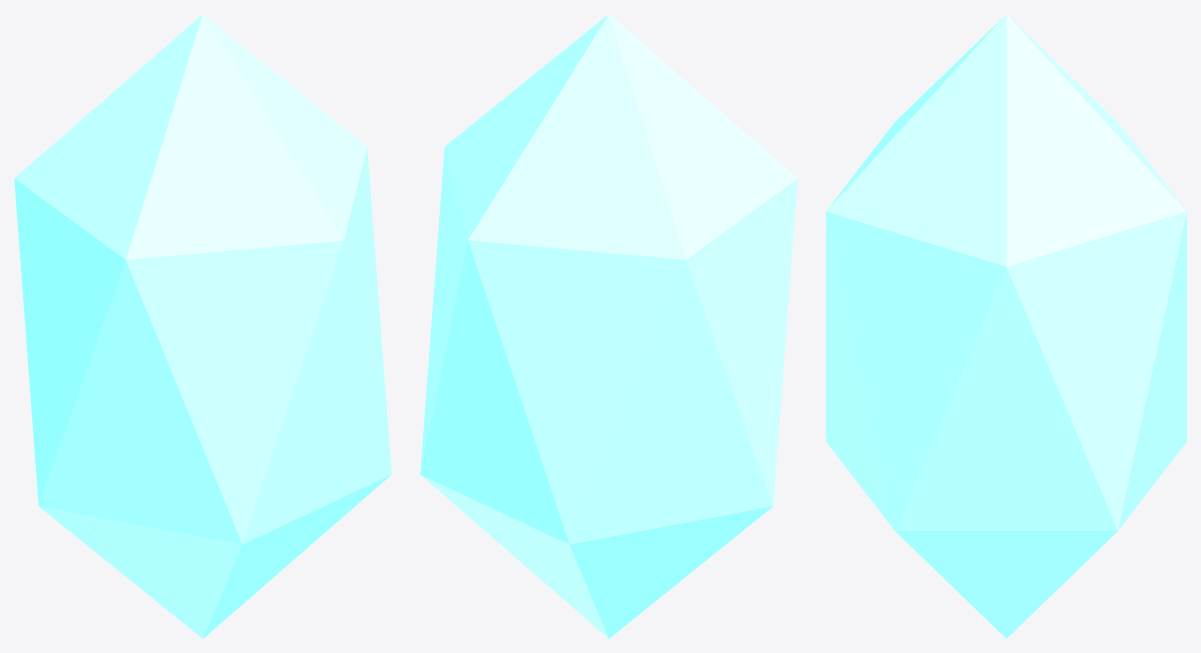
File: player_crystal.glb
The picture shows the model from 3 angles, left to right: view 1: azimuth 30°, elevation 25°; view 2: azimuth 150°, elevation 25°; view 3: azimuth 270°, elevation 25°; orthographic projection.
Parts seen in each view (by area): view 1: PlayerCrystal; view 2: PlayerCrystal; view 3: PlayerCrystal.
Boxes of the visible parts, x1,y1,x2,y2 form: PlayerCrystal: [14, 14, 391, 638]; PlayerCrystal: [420, 14, 797, 638]; PlayerCrystal: [826, 14, 1186, 638].
Bounding box in the file's own units: 0.7871 × 1.43 × 0.7486.
